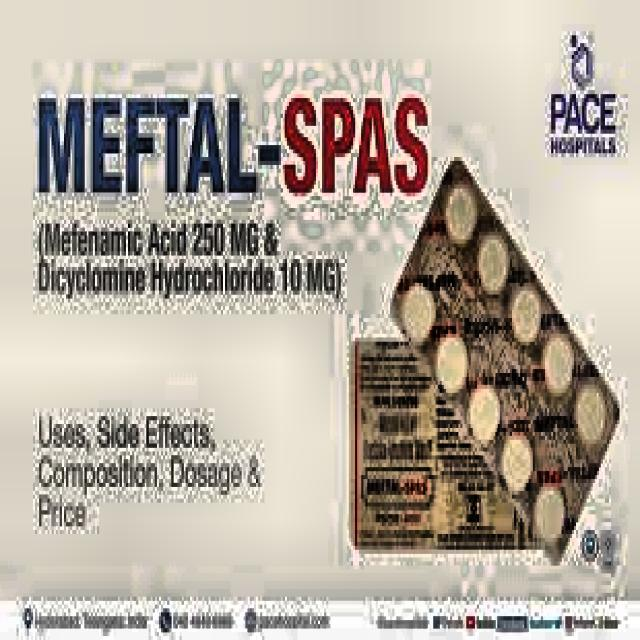Meftal: (24, 74, 435, 262)
